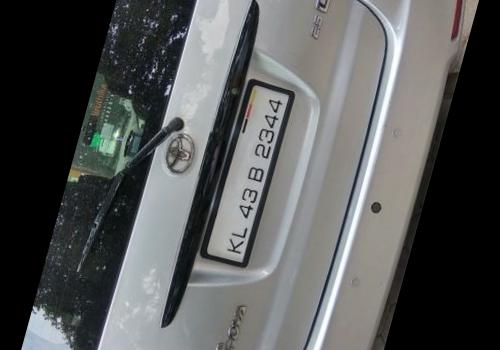plate: (183, 41, 315, 291)
